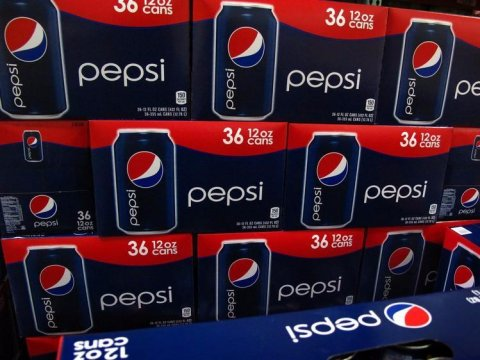pepsi: (2, 16, 46, 62), (225, 23, 265, 67), (125, 149, 163, 187), (382, 300, 432, 327), (34, 264, 74, 295), (413, 36, 442, 77), (411, 39, 442, 77), (316, 150, 349, 185), (38, 264, 74, 295), (413, 39, 442, 77), (227, 257, 260, 287), (386, 245, 414, 274), (28, 192, 57, 218), (451, 263, 474, 288), (460, 186, 478, 207), (25, 134, 37, 147)
